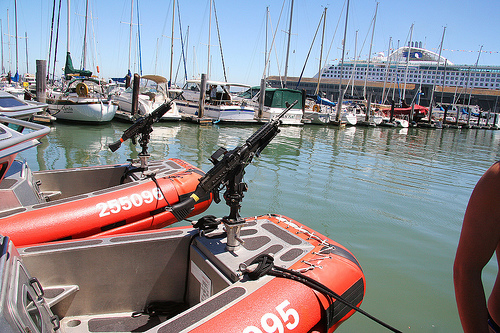rifle: (177, 98, 308, 230), (99, 84, 176, 152)
